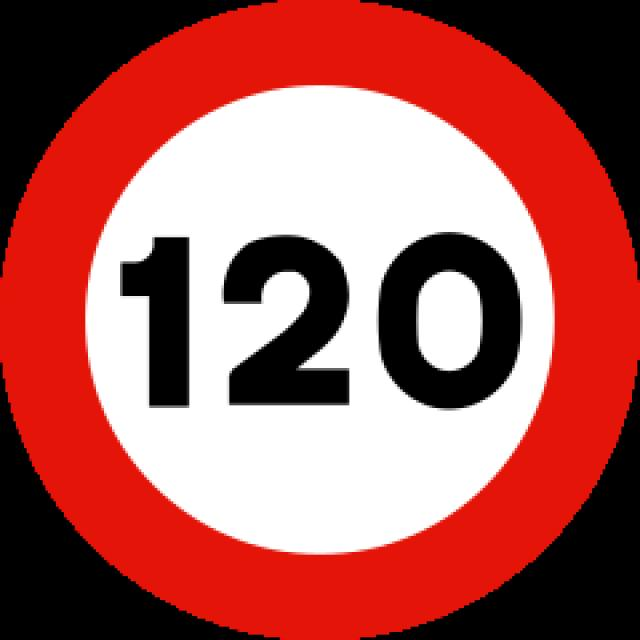Speed Limit -120-: (118, 232, 527, 412)
